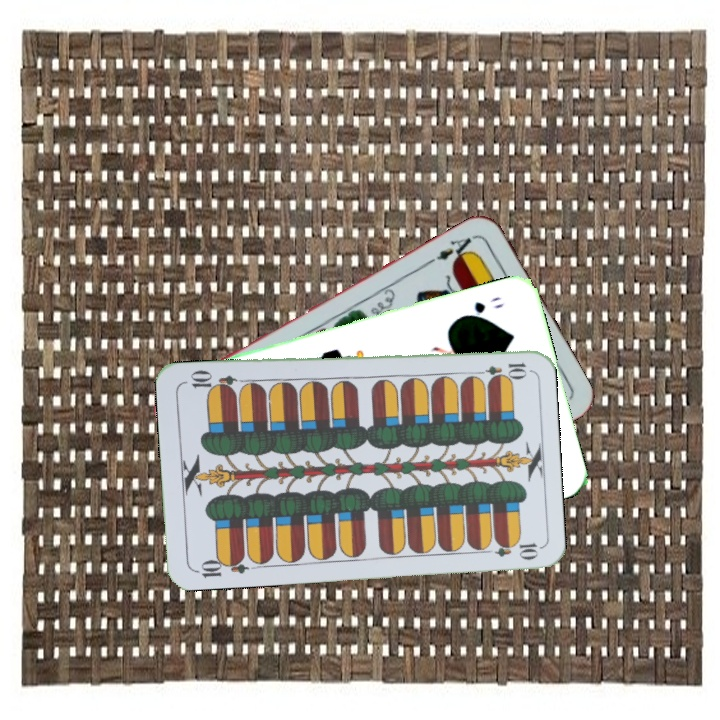E10: (191, 552, 250, 580), (470, 358, 529, 379)
EA: (425, 231, 480, 266)
GO: (457, 292, 506, 321)
